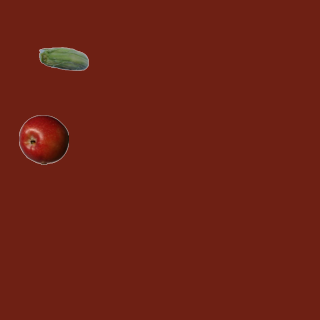Apple Braeburn: (18, 114, 68, 164)
Corn Husk: (38, 35, 88, 85)
